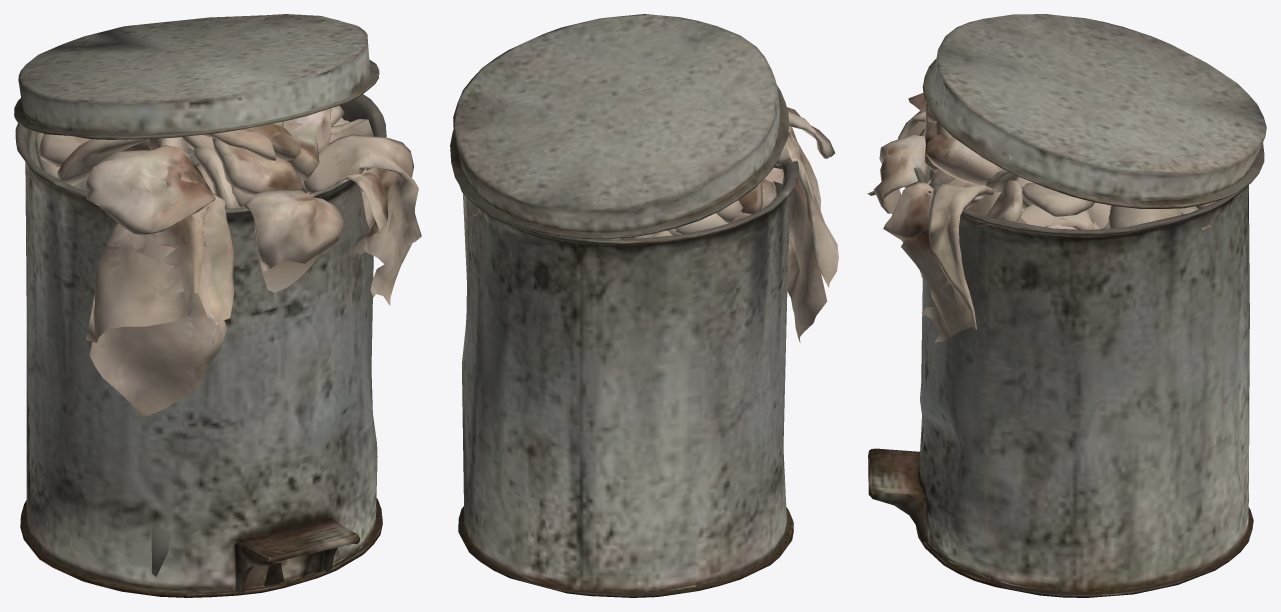
Rendered from trash.glb.
3 views of the same model, side by side, from view 1: azimuth 30°, elevation 25°; view 2: azimuth 150°, elevation 25°; view 3: azimuth 270°, elevation 25° (orthographic). The views are drawn at different scales.
Bounding box in the file's own units: 0.7069 × 1 × 0.7792.
1 material, 1 textured.
